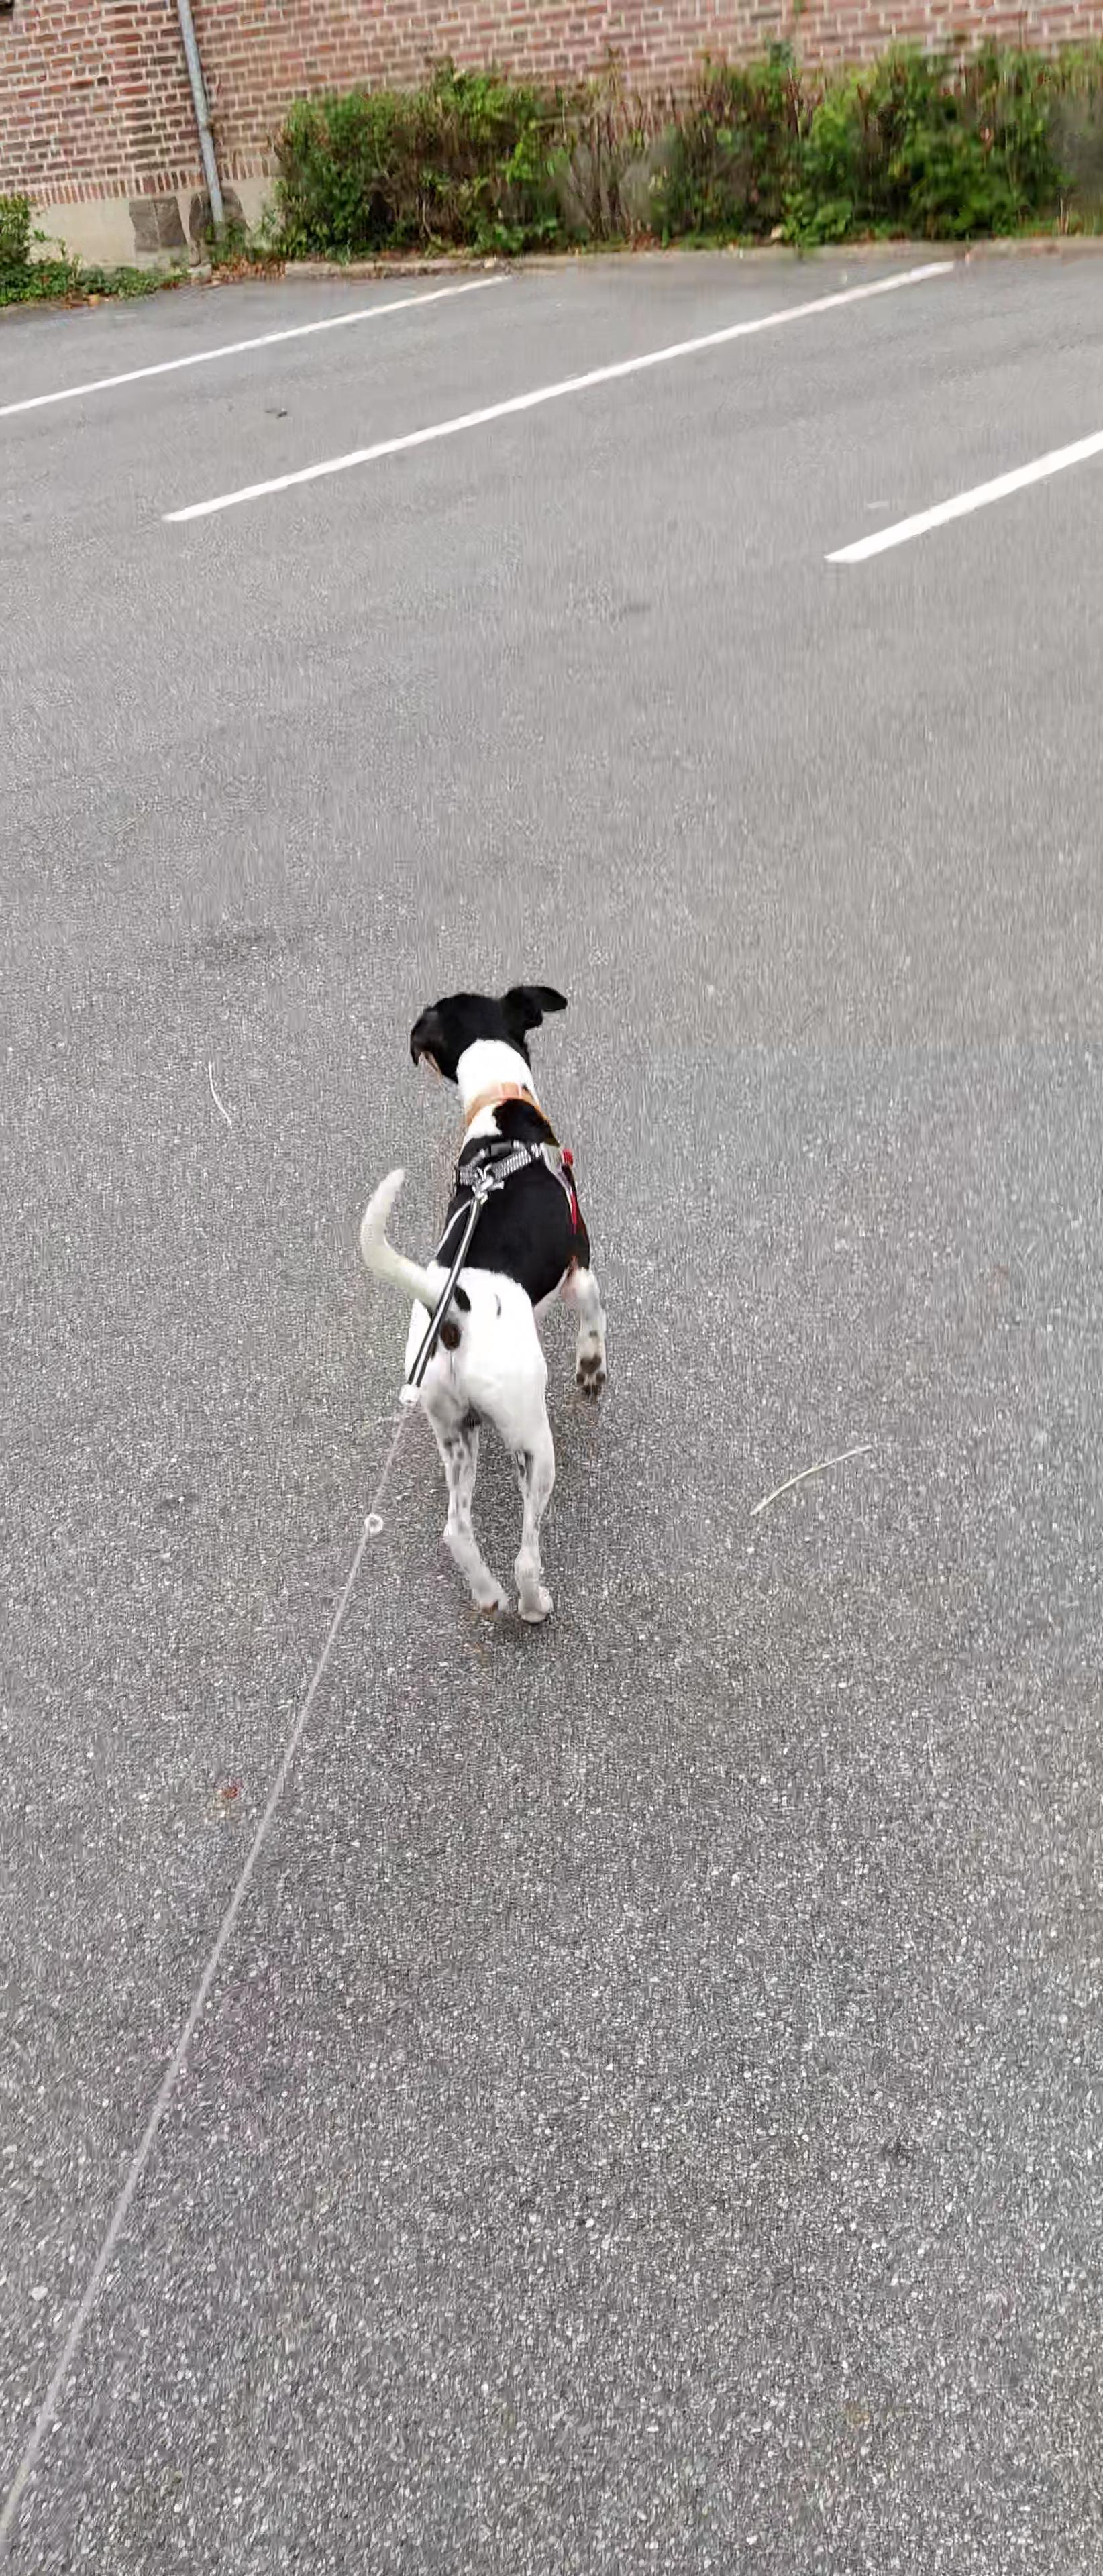Dog: (330, 943, 630, 1635)
